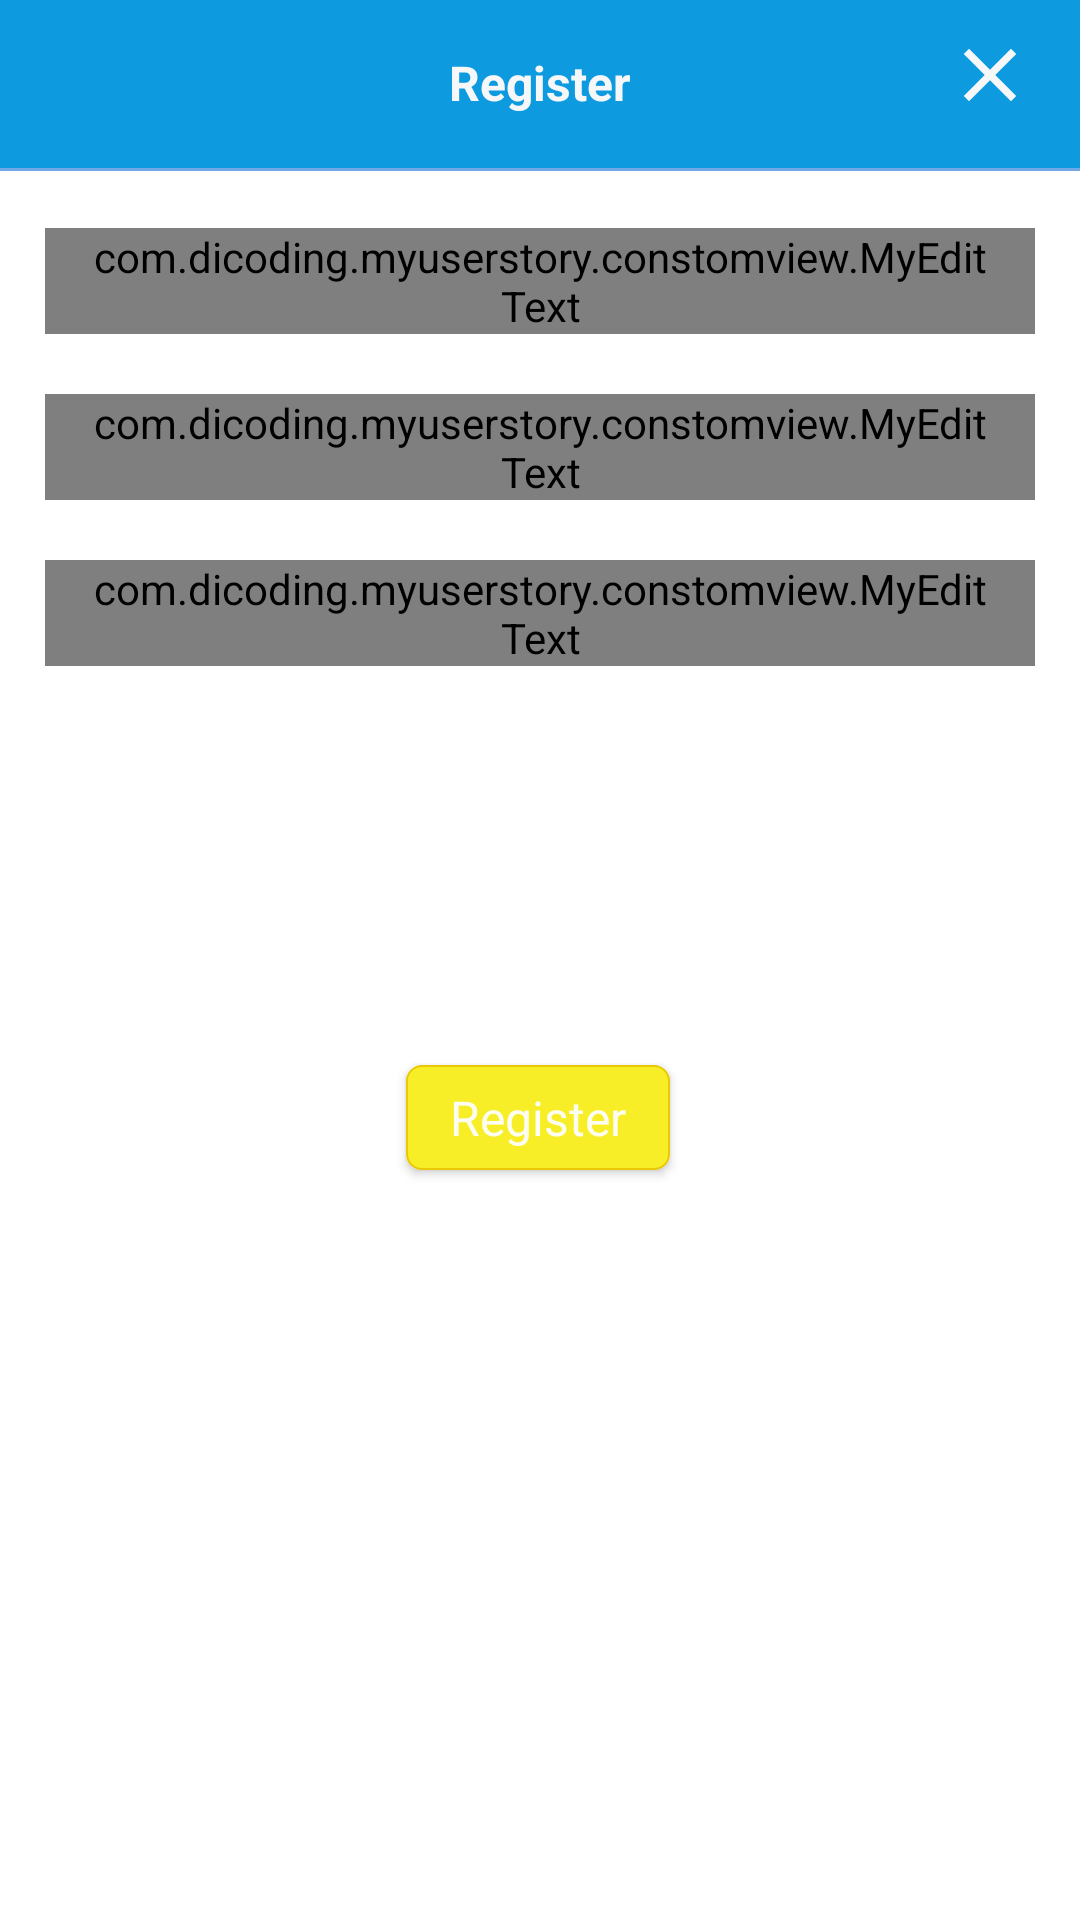

Named icons in this screenshot (1080px×1920px) and their centers, (x,y):
close: (990,75)
